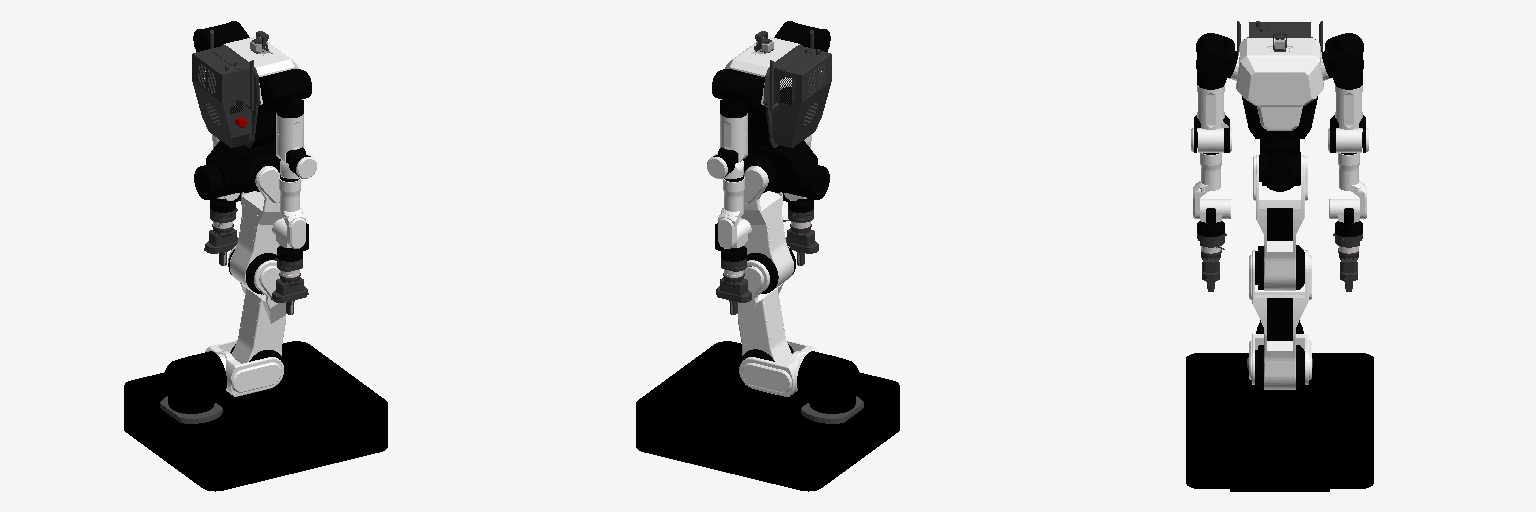
--- Render facts (derived) ---
3 views of the same robot in one strip: view 1: azimuth 30°, elevation 25°; view 2: azimuth 150°, elevation 25°; view 3: azimuth 270°, elevation 25° (orthographic).
Robot: RBY1_M — 36 links, 35 joints (22 revolute, 4 continuous, 4 prismatic, 5 fixed); root link base; default pose: every joint at zero.
Links seen in each view (by area): view 1: base, link_torso_5, link_torso_2, link_torso_1, link_torso_4, link_torso_0, link_right_arm_2, link_right_arm_1, link_right_arm_3, link_right_arm_4, link_right_arm_5, link_right_arm_0 (+4 smaller); view 2: base, link_torso_5, link_torso_2, link_torso_1, link_torso_4, link_torso_0, link_left_arm_2, link_left_arm_1, link_left_arm_3, link_left_arm_4, link_left_arm_5, link_left_arm_0 (+4 smaller); view 3: base, link_torso_5, link_torso_1, link_torso_2, link_torso_4, link_right_arm_2, link_left_arm_2, link_right_arm_3, link_left_arm_3, link_right_arm_0, link_left_arm_0, link_right_arm_5 (+4 smaller).
Boxes of the visible links, box(x1,y1,x2,y2) form: base: box(124, 341, 387, 491); link_torso_5: box(192, 30, 298, 147); link_torso_2: box(228, 166, 282, 294); link_torso_1: box(228, 245, 286, 390); link_torso_4: box(194, 140, 279, 199); link_torso_0: box(205, 340, 283, 396); link_right_arm_2: box(275, 113, 316, 178); link_right_arm_1: box(271, 72, 306, 117); link_right_arm_3: box(277, 153, 309, 209); link_right_arm_4: box(280, 207, 305, 248); link_right_arm_5: box(272, 218, 308, 261); link_right_arm_0: box(259, 69, 311, 106); base: box(636, 341, 899, 491); link_torso_5: box(725, 30, 831, 147); link_torso_2: box(741, 166, 795, 293); link_torso_1: box(737, 246, 793, 390); link_torso_4: box(747, 140, 829, 199); link_torso_0: box(739, 341, 817, 396); link_left_arm_2: box(707, 113, 748, 178); link_left_arm_1: box(717, 72, 752, 117); link_left_arm_3: box(714, 153, 746, 209); link_left_arm_4: box(718, 207, 743, 248); link_left_arm_5: box(715, 218, 751, 261); link_left_arm_0: box(712, 69, 764, 106); base: box(1186, 320, 1373, 491); link_torso_5: box(1228, 21, 1331, 142); link_torso_1: box(1249, 250, 1311, 389); link_torso_2: box(1253, 155, 1307, 290); link_torso_4: box(1260, 139, 1299, 191); link_right_arm_2: box(1191, 85, 1231, 152); link_left_arm_2: box(1328, 85, 1368, 152); link_right_arm_3: box(1197, 128, 1228, 183); link_left_arm_3: box(1331, 128, 1362, 183); link_right_arm_0: box(1196, 33, 1235, 83); link_left_arm_0: box(1324, 33, 1363, 83); link_right_arm_5: box(1197, 199, 1230, 236).
Bounding box of the posed robot: 0.695 × 0.6 × 1.47 m (x, y, z).
Meshes: 30 distinct files referenced, 31 mesh visuals loaded (27 Collada DAE); not drawn: 5 (reference not matched to a file when rendering).

The robot description file, URDF, robot "RBY1_M":
<?xml version="1.0"?>
<robot name="RBY1_M">
    <mobile type="mecanum" xyz="0 0 0" rpy="0 0 0" joints="wheel_fr wheel_fl wheel_rr wheel_rl"
            params="0.245 0.245 0.076"/> <!-- Lx, Ly, wheel_radius -->

    <link name="base">
        <inertial>
            <mass value="82.93082168"/>
            <origin rpy="0 0 0" xyz="-0.05361531 -0.00279946 0.13500266"/>
            <inertia ixx="2.38184773" ixy="0.00958286" ixz="0.32695003" iyy="4.04857218" iyz="-0.01527373" izz="5.45210782"/>
        </inertial>
        <visual>
            <geometry>
                <mesh filename="./meshes/base.dae"/>
            </geometry>
        </visual>
    </link>

    <link name="wheel_fr_link">
        <inertial>
            <mass value="2.54410022"/>
            <origin rpy="0 0 3.1415926535897932384626433832795" xyz="-0.00010511 0.00094580 0.0"/>
            <inertia ixx="0.00470985" ixy="-0.00000025" ixz="0.0" iyy="0.00616429" iyz="0.0" izz="0.00470754"/>
        </inertial>
        <visual>
            <geometry>
                <mesh filename="./meshes/MECANUM_WHEEL.dae"/>
            </geometry>
        </visual>
    </link>

    <link name="wheel_fl_link">
        <inertial>
            <mass value="2.54417879"/>
            <origin rpy="0 0 0" xyz="-0.00010433 -0.00094577 0.0"/>
            <inertia ixx="0.00471013" ixy="0.00000025" ixz="0.0" iyy="0.00616468" iyz="0.0" izz="0.00470782"/>
        </inertial>
        <visual>
            <geometry>
                <mesh filename="./meshes/MECANUM_WHEEL_M.dae"/>
            </geometry>
        </visual>
    </link>

    <link name="wheel_rr_link">
        <inertial>
            <mass value="2.54410022"/>
            <origin rpy="0 0 0" xyz="-0.00010511 0.00094580 0.0"/>
            <inertia ixx="0.00470985" ixy="-0.00000025" ixz="0.0" iyy="0.00616429" iyz="0.0" izz="0.00470754"/>
        </inertial>
        <visual>
            <geometry>
                <mesh filename="./meshes/MECANUM_WHEEL_M.dae"/>
            </geometry>
        </visual>
    </link>

    <link name="wheel_rl_link">
        <inertial>
            <mass value="2.54417879"/>
            <origin rpy="0 0 3.1415926535897932384626433832795" xyz="-0.00010433 -0.00094577 0.0"/>
            <inertia ixx="0.00471013" ixy="0.00000025" ixz="0.0" iyy="0.00616468" iyz="0.0" izz="0.00470782"/>
        </inertial>

        <visual>
            <geometry>
                <mesh filename="./meshes/MECANUM_WHEEL.dae"/>
            </geometry>
        </visual>
    </link> 

    <link name="link_torso_0">
        <inertial>
            <mass value="2.24282123"/>
            <origin rpy="0 0 0" xyz="-0.08848415 0.00021367 0.00000046"/>
            <inertia ixx="0.01413496" ixy="0.00092982" ixz="-0.00000010" iyy="0.01005357"
                     iyz="-0.00000008" izz="0.01892525"/>
        </inertial>

        <visual>
            <geometry>
                <mesh filename="./meshes/LINK_1.dae"/>
            </geometry>
        </visual>

        <collision>
            <origin xyz="-0.115 0 0" rpy="0 1.5708 0"/>
            <geometry>
                <capsule radius="0.105" length="0.230" coltype="1"/>
                <!-- <capsule sp="0.0 0.0 0.0" ep="-0.230 0.0 0.0" radius="0.105" length="1"/> -->
            </geometry>
        </collision>
    </link>

    <link name="link_torso_1">
        <inertial>
            <mass value="9.72162676"/>
            <origin rpy="0 0 0" xyz="0.00728955 -0.01728522 0.06911380"/>
            <inertia ixx="0.14862640" ixy="-0.00142621" ixz="-0.00951385" iyy="0.13854733"
                     iyz="-0.00975351" izz="0.02912982"/>
        </inertial>

        <visual>
            <geometry>
                <mesh filename="./meshes/LINK_2.dae"/>
            </geometry>
        </visual>

        <collision>
            <origin xyz="0.0100 0 0.2400" rpy="0 0 0"/>
            <geometry>
                <capsule radius="0.115" length="0.220" coltype="2"/>
                <!-- <capsule sp="0.01 0.0 0.130" ep="0.01 0.0 0.350" radius="0.115"/> -->
            </geometry>
        </collision>
    </link>

    <link name="link_torso_2">
        <inertial>
            <mass value="9.21691850"/>
            <origin rpy="0 0 0" xyz="0.00653835 -0.01769536 0.05636582"/>
            <inertia ixx="0.12162270" ixy="-0.00127910" ixz="-0.00831678" iyy="0.11589190"
                     iyz="-0.00873271" izz="0.03094484"/>
        </inertial>

        <visual>
            <geometry>
                <mesh filename="./meshes/LINK_3.dae"/>
            </geometry>
        </visual>

        <collision>
            <origin xyz="0.0250 0 0.2300" rpy="0 0 0"/>
            <geometry>
                <capsule radius="0.095" length="0.1600" coltype="4"/>
                <!-- <capsule sp="0.025 0.0 0.15" ep="0.025 0.0 0.310" radius="0.095"/> -->
            </geometry>
        </collision>
    </link>

    <link name="link_torso_3">
        <inertial>
            <mass value="4.18679196"/>
            <origin rpy="0 0 0" xyz="-0.00574156 -0.01725975 0.00005610"/>
            <inertia ixx="0.00849870" ixy="0.00040861" ixz="-0.00000263" iyy="0.00929513"
                     iyz="-0.00001243" izz="0.00955442"/>
        </inertial>

        <visual>
            <geometry>
                <mesh filename="./meshes/LINK_4.dae"/>
            </geometry>
        </visual>
    </link>

    <link name="link_torso_4">
        <inertial>
            <mass value="4.45566276"/>
            <origin rpy="0 0 0" xyz="-0.09097095 0.00005085 0.02601950"/>
            <inertia ixx="0.01545991" ixy="0.00001883" ixz="-0.00780349" iyy="0.02550888" iyz="0.00000715"
                     izz="0.01952563"/>
        </inertial>

        <visual>
            <geometry>
                <mesh filename="./meshes/LINK_5.dae"/>
            </geometry>
        </visual>


        <collision>
            <origin xyz="-0.070000 0 0.038500" rpy="0 1.5708 0"/>
            <geometry>
                <capsule radius="0.105" length="0.2" coltype="8"/>
                <!-- <capsule sp="0.03 0.0 0.0385" ep="-0.170 0.0 0.0385" radius="0.105"/> -->
            </geometry>
        </collision>
    </link>

    <link name="link_torso_5">
        <inertial>
            <mass value="12.59012341"/>
            <origin rpy="0 0 0" xyz="-0.01338376 0.00025621 -0.03272487"/>
            <inertia ixx="0.21375525" ixy="0.00051520" ixz="0.00880124" iyy="0.16562090" iyz="-0.00023995"
                     izz="0.13308879"/>
        </inertial>

        <visual>
            <geometry>
                <mesh filename="./meshes/LINK_6.dae"/>
            </geometry>
        </visual>

        <collision>
            <origin xyz="0 0 0.0075" rpy="0 0 0"/>
            <geometry>
                <capsule radius="0.155" length="0.1350" coltype="16"/>
                <!-- <capsule sp="0.0 0.0 -0.06" ep="0.0 0.0 0.075" radius="0.155"/> -->
            </geometry>
        </collision>
    </link>

    <link name="link_right_arm_0">
        <inertial>
            <mass value="1.26164242"/>
            <origin rpy="0 0 0" xyz="-0.00316662 0.03437181 -0.00000030"/>
            <inertia ixx="0.00230621" ixy="0.00039024" ixz="-0.00000256" iyy="0.00426418" iyz="0.00000118"
                     izz="0.00432156"/>
        </inertial>

        <visual>
            <geometry>
                <mesh filename="./meshes/LINK_7.dae"/>
            </geometry>
        </visual>

        <collision>
            <origin xyz="-0.015 0.018 -0.008" rpy="0 1.5708 0"/>
            <geometry>
                <capsule radius="0.075" length="0.0700"/>
            </geometry>
        </collision>
    </link>

    <link name="link_right_arm_1">
        <inertial>
            <mass value="2.27287031"/>
            <origin rpy="0 0 0" xyz="-0.00307855 -0.00124741 -0.01294324"/>
            <inertia ixx="0.00388490" ixy="-0.00001477" ixz="0.00011465" iyy="0.00447034"
                     iyz="-0.00010023" izz="0.00288341"/>
        </inertial>

        <visual>
            <geometry>
                <mesh filename="./meshes/LINK_8.dae"/>
            </geometry>
        </visual>

        <collision>
            <origin xyz="0 0 -0.1000" rpy="0 0 0"/>
            <geometry>
                <capsule radius="0.05" length="0.2" coltype="32"/>
                <!-- <capsule sp="0.0 0.0 0.0" ep="0.0 0.0 -0.200" radius="0.050"/> -->
            </geometry>
        </collision>
    </link>

    <link name="link_right_arm_2">
        <inertial>
            <mass value="2.46909439"/>
            <origin rpy="0 0 0" xyz="0.00115434 0.00196635 -0.16192524"/>
            <inertia ixx="0.00980269" ixy="0.00005871" ixz="0.00051888" iyy="0.00924560" iyz="-0.00045932"
                     izz="0.00329867"/>
        </inertial>

        <visual>
            <geometry>
                <mesh filename="./meshes/LINK_9.dae"/>
            </geometry>
        </visual>

        <collision>
            <origin xyz="0.0260 0 -0.2760" rpy="1.5708 0 0"/>
            <geometry>
                <capsule radius="0.05" length="0.080000" coltype="64"/>
                <!-- <capsule sp="0.026 -0.040 -0.276" ep="0.026 0.040 -0.276" radius="0.05"/> -->
            </geometry>
        </collision>
    </link>

    <link name="link_right_arm_3">
        <inertial>
            <mass value="2.26099493"/>
            <origin rpy="0 0 0" xyz="-0.01603135 -0.00692891 -0.04549811"/>
            <inertia ixx="0.00822606" ixy="0.00027620" ixz="-0.00156570" iyy="0.00844870" iyz="0.00076157"
                     izz="0.00236614"/>
        </inertial>

        <visual>
            <geometry>
                <mesh filename="./meshes/LINK_10.dae"/>
            </geometry>
        </visual>

        <collision>
            <origin xyz="-0.0310 0 -0.1075" rpy="0 0 0"/>
            <geometry>
                <capsule radius="0.04" length="0.1150" coltype="128" colaffinity="30"/>
                <!-- <capsule sp="-0.031 0.0 -0.05" ep="-0.031 0.0 -0.165" radius="0.04"/> -->
            </geometry>
        </collision>
    </link>

    <link name="link_right_arm_4">
        <inertial>
            <mass value="0.42508710"/>
            <origin rpy="0 0 0" xyz="-0.00000011 -0.02696036 0.06182110"/>
            <inertia ixx="0.00082466" ixy="0.0" ixz="0.0" iyy="0.00075398" iyz="-0.00025338"
                     izz="0.00039794"/>
        </inertial>

        <visual>
            <geometry>
                <mesh filename="./meshes/LINK_11.dae"/>
            </geometry>
        </visual>

        <collision>
            <origin xyz="0 -0.038 0.0175" rpy="0 0 0"/>
            <geometry>
                <capsule radius="0.035" length="0.095" coltype="256" colaffinity="30"/>
            </geometry>
        </collision>
    </link>

    <link name="link_right_arm_5">
        <inertial>
            <mass value="1.59194395"/>
            <origin rpy="0 0 0" xyz="0.00318034 -0.00532264 -0.02809655"/>
            <inertia ixx="0.00256054" ixy="-0.00002344" ixz="-0.00001563" iyy="0.00257233"
                     iyz="0.00021608" izz="0.00156092"/>
        </inertial>

        <visual>
            <geometry>
                <mesh filename="./meshes/LINK_12.dae"/>
            </geometry>
        </visual>

        <collision>
            <origin xyz="0 0 -0.1" rpy="0 0 0"/>
            <geometry>
                <capsule radius="0.075" length="0.25" coltype="512" colaffinity="31"/>
                <!-- <capsule sp="0.0 0.0 0.002" ep="0.0 0.0 -0.050" radius="0.075"/> -->
            </geometry>
        </collision>
    </link>

    <link name="link_right_arm_6">
        <inertial>
            <mass value="0.21137279"/>
            <origin rpy="0 0 0" xyz="0.00066810 -0.00031708 -0.09636043"/>
            <inertia ixx="0.00013511" ixy="-0.00000242" ixz="-0.00000102" iyy="0.00014453"
                     iyz="0.00000094" izz="0.00025431"/>
        </inertial>

        <visual>
            <geometry>
                <mesh filename="./meshes/LINK_13.dae"/>
            </geometry>
        </visual>
    </link>

    <link name="link_left_arm_0">
        <inertial>
            <mass value="1.26164242"/>
            <origin rpy="0 0 0" xyz="-0.00316662 -0.03437181 -0.00000030"/>
            <inertia ixx="0.00230621" ixy="-0.00039024" ixz="0.00000256" iyy="0.00426418" iyz="0.00000118"
                     izz="0.00432156"/>
        </inertial>

        <visual>
            <geometry>
                <mesh filename="./meshes/LINK_14.dae"/>
            </geometry>
        </visual>

        <collision>
            <origin xyz="-0.015 -0.018 -0.008" rpy="0 1.5708 0"/>
            <geometry>
                <capsule radius="0.075" length="0.0700"/>
            </geometry>
        </collision>
    </link>

    <link name="link_left_arm_1">
        <inertial>
            <mass value="2.27287031"/>
            <origin rpy="0 0 0" xyz="-0.00307855 0.00124741 -0.01294324"/>
            <inertia ixx="0.00388490" ixy="-0.00001477" ixz="0.00011465" iyy="0.00447034" iyz="0.00010023"
                     izz="0.00288341"/>
        </inertial>

        <visual>
            <geometry>
                <mesh filename="./meshes/LINK_15.dae"/>
            </geometry>
        </visual>

        <collision>
            <origin xyz="0 0 -0.1000" rpy="0 0 0"/>
            <geometry>
                <capsule radius="0.050" length="0.2000" colaffinity="768"/>
            </geometry>
        </collision>
    </link>

    <link name="link_left_arm_2">
        <inertial>
            <mass value="2.46909439"/>
            <origin rpy="0 0 0" xyz="0.00115434 -0.00196635 -0.16192524"/>
            <inertia ixx="0.00980269" ixy="0.00005871" ixz="0.00051888" iyy="0.00924560" iyz="-0.00045932"
                     izz="0.00329867"/>
        </inertial>

        <visual>
            <geometry>
                <mesh filename="./meshes/LINK_16.dae"/>
            </geometry>
        </visual>

        <collision>
            <origin xyz="0.0260 0 -0.2760" rpy="1.5708 0 0"/>
            <geometry>
                <capsule radius="0.05" length="0.080000" colaffinity="768"/>
            </geometry>
        </collision>
    </link>

    <link name="link_left_arm_3">
        <inertial>
            <mass value="2.26099493"/>
            <origin rpy="0 0 0" xyz="-0.01603135 0.00692891 -0.04549811"/>
            <inertia ixx="0.00822606" ixy="-0.00027620" ixz="-0.00156570" iyy="0.00844870"
                     iyz="-0.00076157" izz="0.00236614"/>
        </inertial>

        <visual>
            <geometry>
                <mesh filename="./meshes/LINK_17.dae"/>
            </geometry>
        </visual>

        <collision>
            <origin xyz="-0.0310 0 -0.1075" rpy="0 0 0"/>
            <geometry>
                <capsule radius="0.04" length="0.1150" colaffinity="926"/>
            </geometry>
        </collision>
    </link>

    <link name="link_left_arm_4">
        <inertial>
            <mass value="0.42508710"/>
            <origin rpy="0 0 0" xyz="0.00000011 0.02696036 0.06182110"/>
            <inertia ixx="0.00082466" ixy="0.0" ixz="0.0" iyy="0.00075398" iyz="0.00025338"
                     izz="0.00039794"/>
        </inertial>

        <visual>
            <geometry>
                <mesh filename="./meshes/LINK_18.dae"/>
            </geometry>
        </visual>

        <collision>
            <origin xyz="0 0.038000 0.017500" rpy="0 0 0"/>
            <geometry>
                <capsule radius="0.035" length="0.095000" colaffinity="1022"/>
            </geometry>
        </collision>
    </link>

    <link name="link_left_arm_5">
        <inertial>
            <mass value="1.59194395"/>
            <origin rpy="0 0 0" xyz="0.00318034 0.00532264 -0.02809655"/>
            <inertia ixx="0.00256054" ixy="0.00002344" ixz="-0.00001563" iyy="0.00257233"
                     iyz="-0.00021608" izz="0.00156092"/>
        </inertial>

        <visual>
            <geometry>
                <mesh filename="./meshes/LINK_19.dae"/>
            </geometry>
        </visual>

        <collision>
            <origin xyz="0 0 -0.1" rpy="0 0 0"/>
            <geometry>
                <capsule radius="0.075" length="0.25" colaffinity="1023"/>
            </geometry>
        </collision>
    </link>

    <link name="link_left_arm_6">
        <inertial>
            <mass value="0.21137279"/>
            <origin rpy="0 0 0" xyz="-0.00066810 0.00031708 -0.09636043"/>
            <inertia ixx="0.00013511" ixy="-0.00000242" ixz="0.00000102" iyy="0.00014453"
                     iyz="-0.00000094" izz="0.00025431"/>
        </inertial>

        <visual>
            <geometry>
                <mesh filename="./meshes/LINK_20.dae"/>
            </geometry>
        </visual>
    </link>

    <link name="FT_sensor_R">
        <inertial>
            <mass value="0.49078507"/>
            <origin rpy="0 0 0" xyz="0.00010423 0.00108019 -0.01880676"/>
            <inertia ixx="0.00028587" ixy="-0.00000146" ixz="-0.00000026" iyy="0.00030459"
                     iyz="-0.00000772" izz="0.00036377"/>
        </inertial>

        <visual>
            <geometry>
                <mesh filename="./meshes/FT_SENSOR_R.dae"/>
            </geometry>
        </visual>
    </link>

    <link name="FT_sensor_L">
        <inertial>
            <mass value="0.49078507"/>
            <origin rpy="0 0 0" xyz="-0.00010423 -0.00108019 -0.01880676"/>
            <inertia ixx="0.00028587" ixy="-0.00000146" ixz="0.00000026" iyy="0.00030459" iyz="0.00000772"
                     izz="0.00036377"/>
        </inertial>

        <visual>
            <geometry>
                <mesh filename="./meshes/FT_SENSOR_L.dae"/>
            </geometry>
        </visual>
    </link>

    <link name="ee_right">
        <inertial>
            <mass value="0.46704998"/>
            <origin rpy="0 0 0" xyz="0.00212703 0.00000615 -0.04287176"/>
            <inertia ixx="0.00032067" ixy="0.00002383" ixz="-0.00000785" iyy="0.00059559"
                     iyz="-0.00000007" izz="0.00052732"/>
        </inertial>

        <visual>
            <geometry>
                <mesh filename="./meshes/EE_BODY.dae"/>
            </geometry>
        </visual>
    </link>

    <link name="ee_finger_r1">
        <inertial>
            <mass value="0.03326999"/>
            <origin rpy="0 0 0" xyz="0.00278346 -0.00000329 -0.02570112"/>
            <inertia ixx="0.00001231" ixy="0.0" ixz="-0.00000042" iyy="0.00001066" iyz="0.0"
                     izz="0.00000224"/>
        </inertial>

        <visual>
            <geometry>
                <mesh filename="./meshes/EE_FINGER.dae"/>
            </geometry>
        </visual>
    </link>

    <link name="ee_finger_r2">
        <inertial>
            <mass value="0.03326999"/>
            <origin rpy="0 0 0" xyz="0.00278346 -0.00000329 -0.02570112"/>
            <inertia ixx="0.00001231" ixy="0.0" ixz="-0.00000042" iyy="0.00001066" iyz="0.0"
                     izz="0.00000224"/>
        </inertial>

        <visual>
            <geometry>
                <mesh filename="./meshes/EE_FINGER.dae"/>
            </geometry>
        </visual>
    </link>

    <link name="ee_left">
        <inertial>
            <mass value="0.46704998"/>
            <origin rpy="0 0 0" xyz="0.00212703 0.00000615 -0.04287176"/>
            <inertia ixx="0.00032067" ixy="0.00002383" ixz="-0.00000785" iyy="0.00059559"
                     iyz="-0.00000007" izz="0.00052732"/>
        </inertial>

        <visual>
            <geometry>
                <mesh filename="./meshes/EE_BODY.dae"/>
            </geometry>
        </visual>
    </link>

    <link name="ee_finger_l1">
        <inertial>
            <mass value="0.03326999"/>
            <origin rpy="0 0 0" xyz="0.00278346 -0.00000329 -0.02570112"/>
            <inertia ixx="0.00001231" ixy="0.0" ixz="-0.00000042" iyy="0.00001066" iyz="0.0"
                     izz="0.00000224"/>
        </inertial>

        <visual>
            <geometry>
                <mesh filename="./meshes/EE_FINGER.dae"/>
            </geometry>
        </visual>
    </link>

    <link name="ee_finger_l2">
        <inertial>
            <mass value="0.03326999"/>
            <origin rpy="0 0 0" xyz="0.00278346 -0.00000329 -0.02570112"/>
            <inertia ixx="0.00001231" ixy="0.0" ixz="-0.00000042" iyy="0.00001066" iyz="0.0"
                     izz="0.00000224"/>
        </inertial>

        <visual>
            <geometry>
                <mesh filename="./meshes/EE_FINGER.dae"/>
            </geometry>
        </visual>
    </link>

    <link name="link_head_0">
        <inertial>
            <mass value="0.07582110"/>
            <origin rpy="0 0 0" xyz="-0.00800549 0.0 -0.01100308"/>
            <inertia ixx="0.00003307" ixy="0.0" ixz="-0.00000290" iyy="0.00002209" iyz="0.0"
                     izz="0.00003796"/>
        </inertial>

        <visual>
            <geometry>
                <mesh filename="./meshes/PAN_TILT_1.dae"/>
            </geometry>
        </visual>
    </link>

    <link name="link_head_1">
        <inertial>
            <mass value="0.07450580"/>
            <origin rpy="0 0 0" xyz="-0.01150679 -0.00114270 -0.00031579"/>
            <inertia ixx="0.00001850" ixy="-0.00000035" ixz="0.00000203" iyy="0.00002451"
                     iyz="-0.00000010" izz="0.00002062"/>
        </inertial>

        <visual>
            <geometry>
                <mesh filename="./meshes/PAN_TILT_2.dae"/>
            </geometry>
        </visual>
    </link>

    <link name="link_head_2">
        <inertial>
            <mass value="0.03585374"/>
            <origin rpy="0 0 0" xyz="-0.00081966 0.00099024 0.02283704"/>
            <inertia ixx="0.00002046" ixy="0.00000001" ixz="-0.00000027" iyy="0.00001044" iyz="0.00000076"
                     izz="0.00001291"/>
        </inertial>

        <visual>
            <geometry>
                <mesh filename="./meshes/PAN_TILT_3.dae"/>
            </geometry>
        </visual>
    </link>


    <!-- Joints -->
    <joint name="wheel_fr" type="continuous">
        <parent link="base"/>
        <child link="wheel_fr_link"/>
        <origin rpy="0.0 0.0 0.0" xyz="0.243 -0.245 0.076"/>
        <axis xyz="0 1 0"/>
    </joint>

    <joint name="wheel_fl" type="continuous">
        <parent link="base"/>
        <child link="wheel_fl_link"/>
        <origin rpy="0.0 0.0 0.0" xyz="0.243 0.245 0.076"/>
        <axis xyz="0 1 0"/>
    </joint>

    <joint name="wheel_rr" type="continuous">
        <parent link="base"/>
        <child link="wheel_rr_link"/>
        <origin rpy="0.0 0.0 0.0" xyz="-0.247 -0.245 0.076"/>
        <axis xyz="0 1 0"/>
    </joint>

    <joint name="wheel_rl" type="continuous">
        <parent link="base"/>
        <child link="wheel_rl_link"/>
        <origin rpy="0.0 0.0 0.0" xyz="-0.247 0.245 0.076"/>
        <axis xyz="0 1 0"/>
    </joint>

    <joint name="torso_0" type="revolute">
        <parent link="base"/>
        <child link="link_torso_0"/>
        <origin rpy="0.0 0.0 0.0" xyz="0.0 0.0 0.2965"/>
        <axis xyz="1 0 0"/>
        <!-- Nm, rad/s^2, rad/s, (min) rad, (max) rad -->
        <!-- 270Nm, 5rad/s^2, 120deg/s, -15deg, 15deg -->
        <limit effort="270.0"
               acceleration="5.0"
               velocity="2.09439510"
               lower="-0.261799388"
               upper="0.261799388"
        />
    </joint>

    <joint name="torso_1" type="revolute">
        <parent link="link_torso_0"/>
        <child link="link_torso_1"/>
        <origin rpy="0.0 0.0 0.0" xyz="0.0 0.0 0.0"/>
        <axis xyz="0 1 0"/>
        <!-- Nm, rad/s^2, rad/s, (min) rad, (max) rad -->
        <!-- 270Nm, 5rad/s^2, 120deg/s, -30deg, 90deg -->
        <limit effort="270.0"
               acceleration="5.0"
               velocity="2.09439510"
               lower="-0.523598776"
               upper="1.570796327"
        />
    </joint>

    <joint name="torso_2" type="revolute">
        <parent link="link_torso_1"/>
        <child link="link_torso_2"/>
        <origin rpy="0.0 0.0 0.0" xyz="0.0 0.0 0.350"/>
        <axis xyz="0 1 0"/>
        <!-- Nm, rad/s^2, rad/s, (min) rad, (max) rad -->
        <!-- 270Nm, 5rad/s^2, 120deg/s, -150deg, 90deg -->
        <limit effort="270.0"
               acceleration="5.0"
               velocity="2.09439510"
               lower="-2.617993878"
               upper="1.570796327"
        />
    </joint>

    <joint name="torso_3" type="revolute">
        <parent link="link_torso_2"/>
        <child link="link_torso_3"/>
        <origin rpy="0.0 0.0 0.0" xyz="0.0 0.0 0.350"/>
        <axis xyz="0 1 0"/>
        <!-- Nm, rad/s^2, rad/s, (min) rad, (max) rad -->
        <!-- 120Nm, 5rad/s^2, 180deg/s, -45deg, 90deg -->
        <limit effort="120.0"
               acceleration="5.0"
               velocity="3.141592654"
               lower="-0.785398163"
               upper="1.570796327"
        />
    </joint>

    <joint name="torso_4" type="revolute">
        <parent link="link_torso_3"/>
        <child link="link_torso_4"/>
        <origin rpy="0.0 0.0 0.0" xyz="0.0 0.0 0.0"/>
        <axis xyz="1 0 0"/>
        <!-- Nm, rad/s^2, rad/s, (min) rad, (max) rad -->
        <!-- 120Nm, 5rad/s^2, 180deg/s, -30deg, 30deg -->
        <limit effort="120.0"
               acceleration="5.0"
               velocity="3.141592654"
               lower="-0.523598776"
               upper="0.523598776"
        />
    </joint>

    <joint name="torso_5" type="revolute">
        <parent link="link_torso_4"/>
        <child link="link_torso_5"/>
        <origin rpy="0.0 0.0 0.0" xyz="0.0 0.0 0.309426548461"/>
        <axis xyz="0 0 1"/>
        <!-- Nm, rad/s^2, rad/s, (min) rad, (max) rad -->
        <!-- 120Nm, 5rad/s^2, 180deg/s, -135deg, 135deg -->
        <limit effort="120.0"
               acceleration="5.0"
               velocity="3.141592654"
               lower="-2.35619449"
               upper="2.35619449"
        />
    </joint>

    <joint name="right_arm_0" type="revolute">
        <parent link="link_torso_5"/>
        <child link="link_right_arm_0"/>
        <origin rpy="0.0 0.0 0.0" xyz="0.0 -0.220 0.080073451539 "/>
        <axis xyz="0.0 0.93969262 -0.34202014"/>
        <!-- Nm, rad/s^2, rad/s, (min) rad, (max) rad -->
        <!-- 70Nm, 10rad/s^2, 180deg/s, -180deg, 180deg -->
        <limit effort="70.0"
               acceleration="10.0"
               velocity="3.141592654"
               lower="-3.141592654"
               upper="3.141592654"
        />
    </joint>

    <joint name="right_arm_1" type="revolute">
        <parent link="link_right_arm_0"/>
        <child link="link_right_arm_1"/>
        <origin rpy="0.0 0.0 0.0" xyz="0.0 0.0 0.0"/>
        <axis xyz="1 0 0"/>
        <!-- Nm, rad/s^2, rad/s, (min) rad, (max) rad -->
        <!-- 70Nm, 10rad/s^2, 180deg/s, -180deg, 1deg -->
        <limit effort="70.0"
               acceleration="10.0"
               velocity="3.141592654"
               lower="-3.141592654"
               upper="0.017453293"
        />
    </joint>

    <joint name="right_arm_2" type="revolute">
        <parent link="link_right_arm_1"/>
        <child link="link_right_arm_2"/>
        <origin rpy="0.0 0.0 0.0" xyz="0.0 0.0 0.0"/>
        <axis xyz="0 0 1"/>
        <!-- Nm, rad/s^2, rad/s, (min) rad, (max) rad -->
        <!-- 70Nm, 10rad/s^2, 180deg/s, -180deg, 180deg -->
        <limit effort="70.0"
               acceleration="10.0"
               velocity="3.141592654"
               lower="-3.141592654"
               upper="3.141592654"
        />
    </joint>

    <joint name="right_arm_3" type="revolute">
        <parent link="link_right_arm_2"/>
        <child link="link_right_arm_3"/>
        <origin rpy="0.0 0.0 0.0" xyz="0.031 0.0 -0.276"/>
        <axis xyz="0 1 0"/>
        <!-- Nm, rad/s^2, rad/s, (min) rad, (max) rad -->
        <!-- 40Nm, 10rad/s^2, 180deg/s, -150deg, 1deg -->
        <limit effort="40.0"
               acceleration="10.0"
               velocity="3.141592654"
               lower="-2.617993878"
               upper="0.017453293"
        />
    </joint>

    <joint name="right_arm_4" type="revolute">
        <parent link="link_right_arm_3"/>
        <child link="link_right_arm_4"/>
        <origin rpy="0.0 0.0 0.0" xyz="-0.031 0.0 -0.256"/>
        <axis xyz="0 0 1"/>
        <!-- Nm, rad/s^2, rad/s, (min) rad, (max) rad -->
        <!-- 10Nm, 10rad/s^2, 360deg/s, -180deg, 180deg -->
        <limit effort="10.0"
               acceleration="10.0"
               velocity="6.283185308"
               lower="-3.141592654"
               upper="3.141592654"
        />
    </joint>

    <joint name="right_arm_5" type="revolute">
        <parent link="link_right_arm_4"/>
        <child link="link_right_arm_5"/>
        <origin rpy="0.0 0.0 0.0" xyz="0.0 0.0 0.0"/>
        <axis xyz="0 1 0"/>
        <!-- Nm, rad/s^2, rad/s, (min) rad, (max) rad -->
        <!-- 10Nm, 10rad/s^2, 360deg/s, -90deg, 110deg -->
        <limit effort="10.0"
               acceleration="10.0"
               velocity="6.283185308"
               lower="-1.570796327"
               upper="1.919862177"
        />
    </joint>

    <joint name="right_arm_6" type="revolute">
        <parent link="link_right_arm_5"/>
        <child link="link_right_arm_6"/>
        <origin rpy="0.0 0.0 0.0" xyz="0.0 0.0 0.0"/>
        <axis xyz="0 0 1"/>
        <!-- Nm, rad/s^2, rad/s, (min) rad, (max) rad -->
        <!-- 8Nm, 10rad/s^2, 120deg/s, -155deg, 155deg -->
        <limit effort="8.0"
               acceleration="10.0"
               velocity="2.094395102"
               lower="-2.705260340"
               upper="2.705260340"
        />
    </joint>

    <joint name="left_arm_0" type="revolute">
        <parent link="link_torso_5"/>
        <child link="link_left_arm_0"/>
        <origin rpy="0.0 0.0 0.0" xyz="0.0 0.220 0.080073452 "/>
        <axis xyz="0.0 0.93969262 0.34202014"/>
        <!-- Nm, rad/s^2, rad/s, (min) rad, (max) rad -->
        <!-- 70Nm, 10rad/s^2, 180deg/s, -180deg, 180deg -->
        <limit effort="70.0"
               acceleration="10.0"
               velocity="3.141592654"
               lower="-3.141592654"
               upper="3.141592654"
        />
    </joint>

    <joint name="left_arm_1" type="revolute">
        <parent link="link_left_arm_0"/>
        <child link="link_left_arm_1"/>
        <origin rpy="0.0 0.0 0.0" xyz="0.0 0.0 0.0"/>
        <axis xyz="1 0 0"/>
        <!-- Nm, rad/s^2, rad/s, (min) rad, (max) rad -->
        <!-- 70Nm, 10rad/s^2, 180deg/s, -1deg, 180deg -->
        <limit effort="70.0"
               acceleration="10.0"
               velocity="3.141592654"
               lower="-0.017453293"
               upper="3.141592654"
        />
    </joint>

    <joint name="left_arm_2" type="revolute">
        <parent link="link_left_arm_1"/>
        <child link="link_left_arm_2"/>
        <origin rpy="0.0 0.0 0.0" xyz="0.0 0.0 0.0"/>
        <axis xyz="0 0 1"/>
        <!-- Nm, rad/s^2, rad/s, (min) rad, (max) rad -->
        <!-- 70Nm, 10rad/s^2, 180deg/s, -180deg, 180deg -->
        <limit effort="70.0"
               acceleration="10.0"
               velocity="3.141592654"
               lower="-3.141592654"
               upper="3.141592654"
        />
    </joint>

    <joint name="left_arm_3" type="revolute">
        <parent link="link_left_arm_2"/>
        <child link="link_left_arm_3"/>
        <origin rpy="0.0 0.0 0.0" xyz="0.031 0.0 -0.276"/>
        <axis xyz="0 1 0"/>
        <!-- Nm, rad/s^2, rad/s, (min) rad, (max) rad -->
        <!-- 40Nm, 10rad/s^2, 180deg/s, -150deg, 1deg -->
        <limit effort="40.0"
               acceleration="10.0"
               velocity="3.141592654"
               lower="-2.617993878"
               upper="0.017453293"
        />
    </joint>

    <joint name="left_arm_4" type="revolute">
        <parent link="link_left_arm_3"/>
        <child link="link_left_arm_4"/>
        <origin rpy="0.0 0.0 0.0" xyz="-0.031 0.0 -0.256"/>
        <axis xyz="0 0 1"/>
        <!-- Nm, rad/s^2, rad/s, (min) rad, (max) rad -->
        <!-- 10Nm, 10rad/s^2, 360deg/s, -180deg, 180deg -->
        <limit effort="10.0"
               acceleration="10.0"
               velocity="6.283185308"
               lower="-3.141592654"
               upper="3.141592654"
        />
    </joint>

    <joint name="left_arm_5" type="revolute">
        <parent link="link_left_arm_4"/>
        <child link="link_left_arm_5"/>
        <origin rpy="0.0 0.0 0.0" xyz="0.0 0.0 0.0"/>
        <axis xyz="0 1 0"/>
        <!-- Nm, rad/s^2, rad/s, (min) rad, (max) rad -->
        <!-- 10Nm, 10rad/s^2, 360deg/s, -90deg, 110deg -->
        <limit effort="10.0"
               acceleration="10.0"
               velocity="6.283185308"
               lower="-1.570796327"
               upper="1.919862177"
        />
    </joint>

    <joint name="left_arm_6" type="revolute">
        <parent link="link_left_arm_5"/>
        <child link="link_left_arm_6"/>
        <origin rpy="0.0 0.0 0.0" xyz="0.0 0.0 0.0"/>
        <axis xyz="0 0 1"/>
        <!-- Nm, rad/s^2, rad/s, (min) rad, (max) rad -->
        <!-- 8Nm, 10rad/s^2, 120deg/s, -155deg, 155deg -->
        <limit effort="8.0"
               acceleration="10.0"
               velocity="2.094395102"
               lower="-2.705260340"
               upper="2.705260340"
        />
    </joint>

    <joint name="tool_right" type="fixed">
        <parent link="link_right_arm_6"/>
        <child link="FT_sensor_R"/>
        <origin rpy="0.0 0.0 0.0" xyz="0.0 0.0 -0.1087"/>
        <axis xyz="0 0 1"/>
    </joint>

    <joint name="FT_Sensor_END_right" type="fixed">
        <parent link="FT_sensor_R"/>
        <child link="ee_right"/>
        <origin rpy="0.0 0.0 0.0" xyz="0.0 0.0 -0.0461"/>
        <axis xyz="0 0 1"/>
    </joint>

    <joint name="gripper_finger_r1" type="prismatic" in_model_type="fixed">
        <parent link="ee_right"/>
        <child link="ee_finger_r1"/>
        <origin rpy="0.0 0.0 0.0" xyz="0.003 0.0 -0.073"/>
        <axis xyz="-1 0 0"/>
        <limit effort="1000" velocity="0.05" lower="-0.05" upper="0"/>
    </joint>

    <joint name="gripper_finger_r2" type="prismatic" in_model_type="fixed">
        <parent link="ee_right"/>
        <child link="ee_finger_r2"/>
        <origin rpy="0.0 0.0 3.1415926535" xyz="-0.003 0.0 -0.073"/>
        <axis xyz="1 0 0"/>
        <limit effort="1000" velocity="0.05" lower="0" upper="0.05"/>
    </joint>

    <joint name="tool_left" type="fixed">
        <parent link="link_left_arm_6"/>
        <child link="FT_sensor_L"/>
        <origin rpy="0.0 0.0 0" xyz="0.0 0.0 -0.1087"/>
        <axis xyz="0 0 1"/>
    </joint>

    <joint name="FT_Sensor_END_left" type="fixed">
        <parent link="FT_sensor_L"/>
        <child link="ee_left"/>
        <origin rpy="0.0 0.0 0.0" xyz="0.0 0.0 -0.0461"/>
        <axis xyz="0 0 1"/>
    </joint>

    <joint name="gripper_finger_l1" type="prismatic" in_model_type="fixed">
        <parent link="ee_left"/>
        <child link="ee_finger_l1"/>
        <origin rpy="0.0 0.0 0.0" xyz="0.003 0.0 -0.073"/>
        <axis xyz="-1 0 0"/>
        <limit effort="1000" velocity="0.05" lower="-0.05" upper="0"/>
    </joint>

    <joint name="gripper_finger_l2" type="prismatic" in_model_type="fixed">
        <parent link="ee_left"/>
        <child link="ee_finger_l2"/>
        <origin rpy="0.0 0.0 3.1415926535" xyz="-0.003 0.0 -0.073"/>
        <axis xyz="1 0 0"/>
        <limit effort="1000" velocity="0.05" lower="0" upper="0.05"/>
    </joint>

    <joint name="head_base" type="fixed">
        <parent link="link_torso_5"/>
        <child link="link_head_0"/>
        <origin rpy="0.0 0.0 0.0" xyz="0.022 0.0 0.120073451525"/>
        <axis xyz="0 0 1"/>
    </joint>

    <joint name="head_0" type="revolute">
        <parent link="link_head_0"/>
        <child link="link_head_1"/>
        <origin rpy="0.0 0.0 0.0" xyz="0.0 0.0 0.02"/>
        <axis xyz="0 0 1"/>
        <limit effort="1000" velocity="3.14" lower="-0.523" upper="0.523"/>
    </joint>

    <joint name="head_1" type="revolute">
        <parent link="link_head_1"/>
        <child link="link_head_2"/>
        <origin rpy="0.0 0.0 0.0" xyz="0.0 0.0 0.0"/>
        <axis xyz="0 1 0"/>
        <limit effort="1000" velocity="3.14" lower="-0.35" upper="1.57"/>
    </joint>

    <!-- <joint name="head_mount" type="fixed">
      <parent link="link_head_2"/>
      <child link="Arbitrary device"/>
      <origin rpy="0.0 0.0 0.0" xyz="0.022 0.0 0.04"/>
      <axis xyz="0 0 1"/>
    </joint> -->

</robot>
